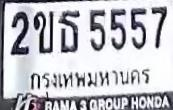2: (10, 11, 28, 54)
5: (130, 7, 146, 49), (89, 9, 105, 50), (110, 8, 125, 49)
7: (150, 5, 166, 48)
A02: (32, 10, 54, 53)
A24: (58, 10, 80, 52)
BKK: (27, 66, 152, 89)
